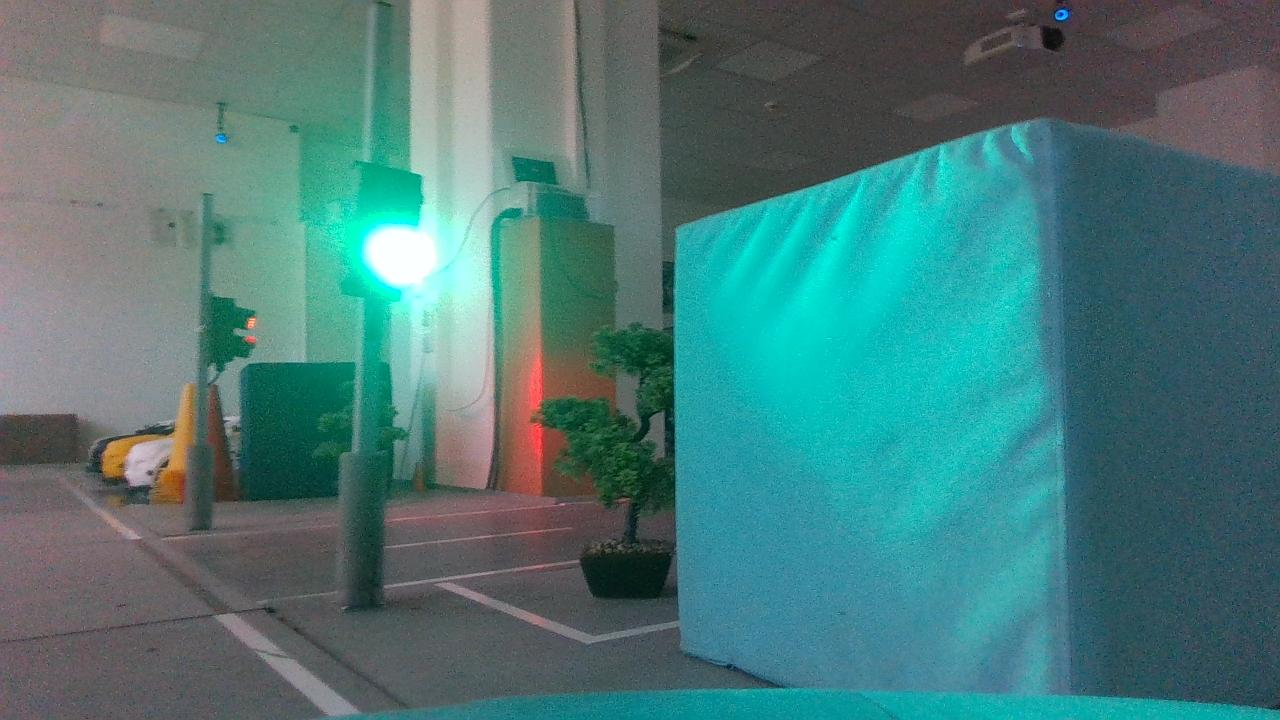traffic_light_green: (313, 153, 445, 315)
